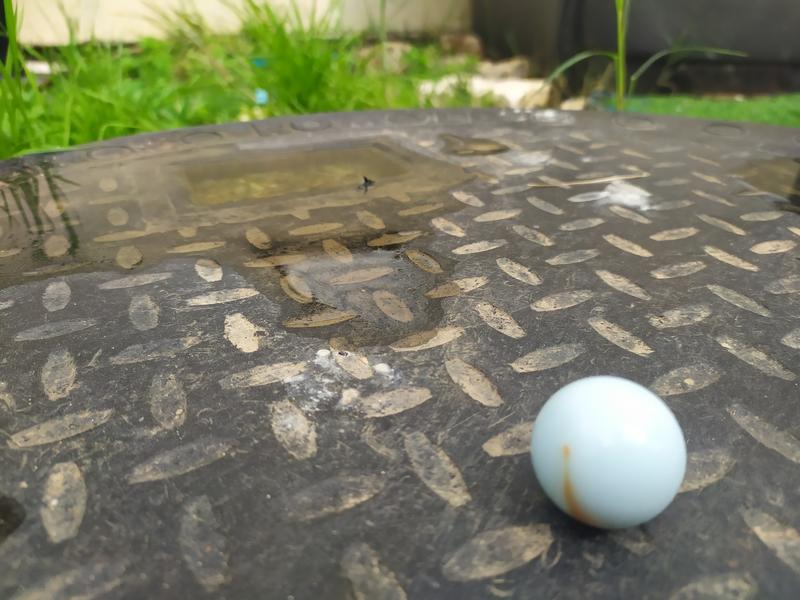Warning: (525, 371, 690, 535)
